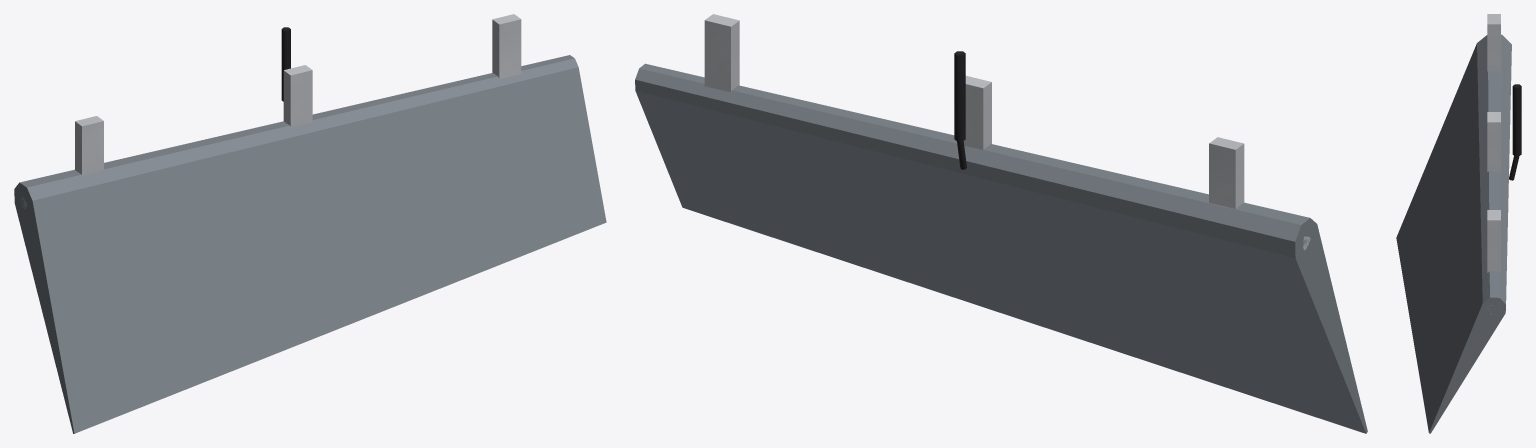
The model's file is jet09_control_surface_rudder_s_defl_neg.glb.
3 renders of one model, left to right at view 1: azimuth 30°, elevation 25°; view 2: azimuth 150°, elevation 25°; view 3: azimuth 270°, elevation 25°, orthographic. The views are drawn at different scales.
Parts seen in each view (by area): view 1: surface, hinge_fittings; view 2: surface, hinge_fittings, actuator; view 3: surface, hinge_fittings, actuator.
Part boxes in pixels (x1=…): surface: x1=14, y1=55, x2=606, y2=433; hinge_fittings: x1=20, y1=14, x2=521, y2=208; surface: x1=635, y1=63, x2=1367, y2=433; hinge_fittings: x1=704, y1=14, x2=1310, y2=250; actuator: x1=954, y1=51, x2=966, y2=169; surface: x1=1396, y1=34, x2=1511, y2=433; hinge_fittings: x1=1487, y1=14, x2=1500, y2=313; actuator: x1=1509, y1=84, x2=1521, y2=180.
Bounding box in the file's own units: 1.6 × 0.8153 × 0.3288.
Materials: 3 (1 with a texture image).
